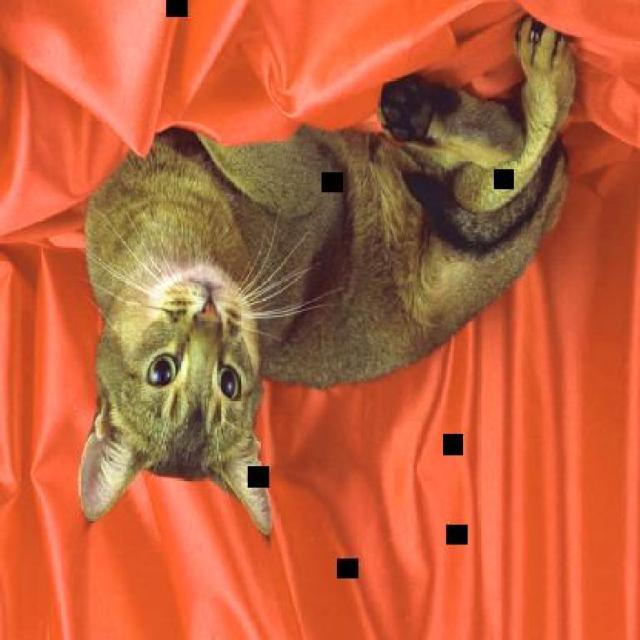cat: (79, 10, 575, 536)
